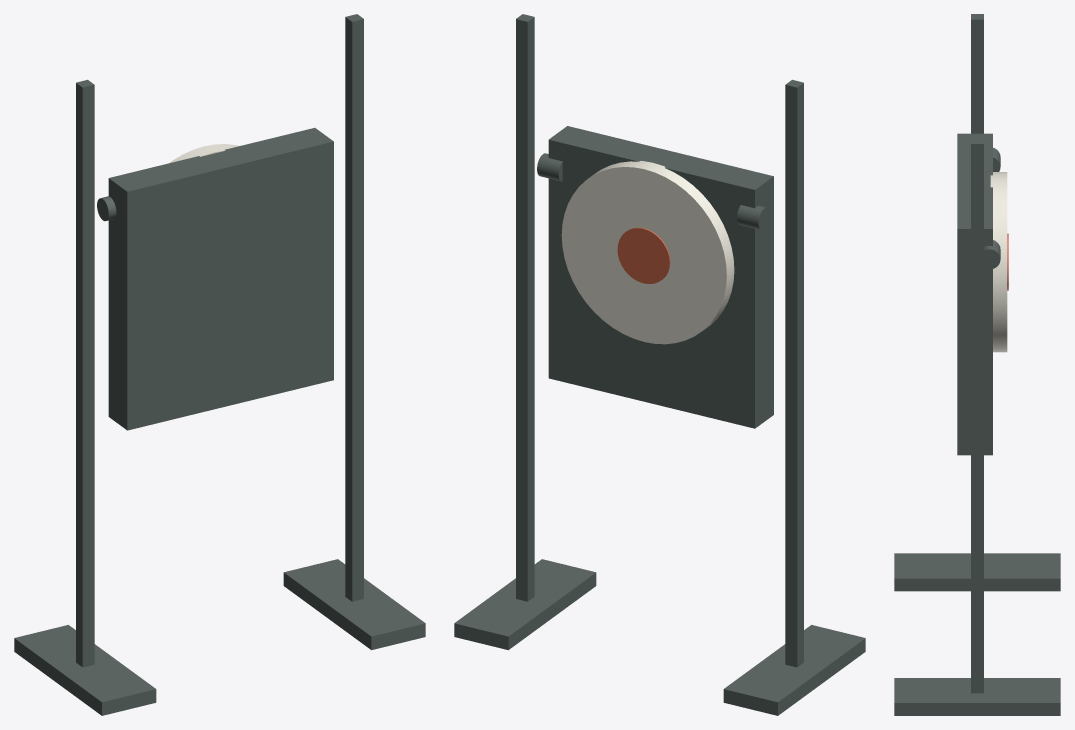
Rendered from target_reactive.glb.
3 views of the same model, side by side, from view 1: azimuth 30°, elevation 25°; view 2: azimuth 150°, elevation 25°; view 3: azimuth 270°, elevation 25° (orthographic). The views are drawn at different scales.
Visible parts, largest first — view 1: static_batch_1_0; view 2: static_batch_1_0, hit_surface, actuator_center; view 3: static_batch_1_0, hit_surface.
Part boxes in pixels (x1,y1,x2,y2): static_batch_1_0: (14,14,425,715); static_batch_1_0: (454,14,865,715); hit_surface: (561,161,734,344); actuator_center: (617,227,670,283); static_batch_1_0: (894,14,1060,715); hit_surface: (990,172,1007,352).
Size of the model in its own units: 1.49 by 2.61 by 0.7.
